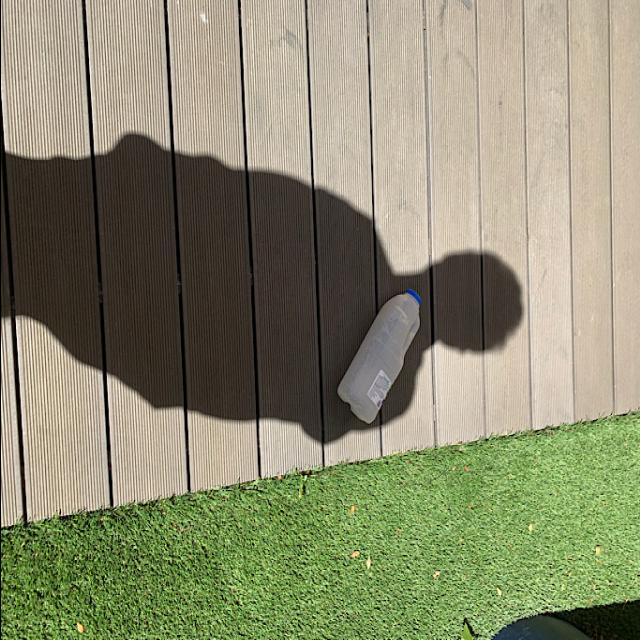HDPEM: (327, 282, 425, 434)
